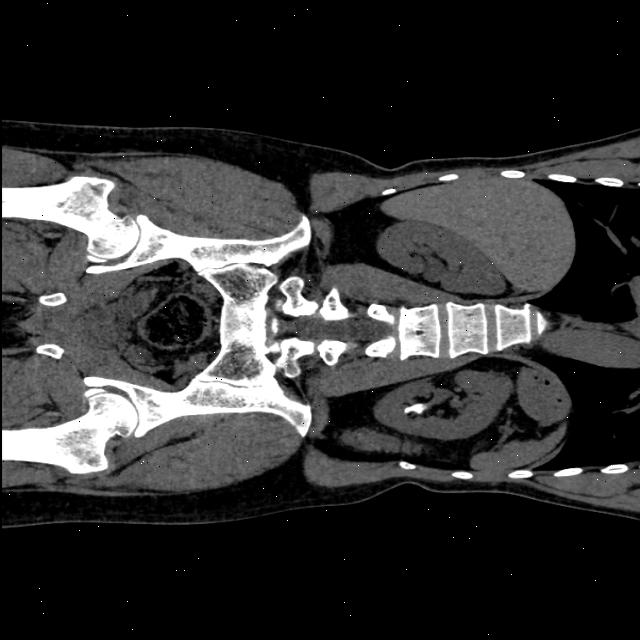kidneystone: (403, 404, 425, 414)
